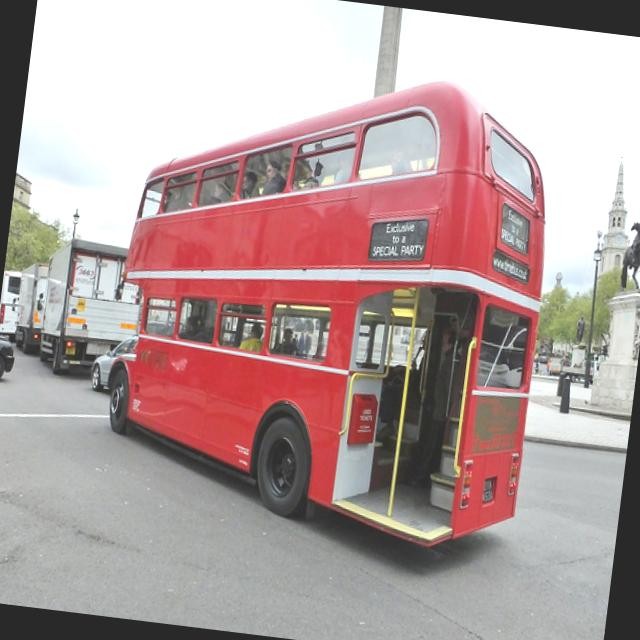Vehicle: (94, 44, 566, 558), (31, 234, 150, 384), (11, 260, 46, 354), (87, 331, 137, 393), (560, 356, 600, 386), (0, 335, 15, 385)
